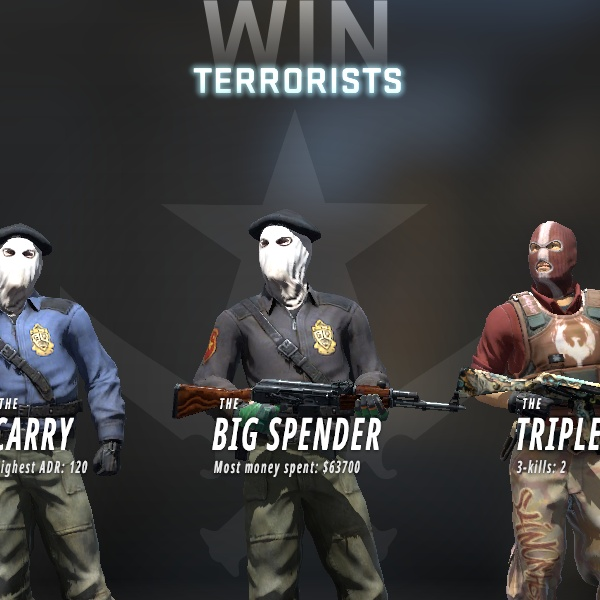t_body: (429, 193, 588, 600)
t_head: (500, 205, 599, 319)
